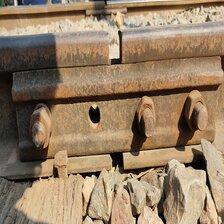railway-gap: (87, 23, 146, 79), (102, 146, 133, 174), (98, 0, 113, 8)
